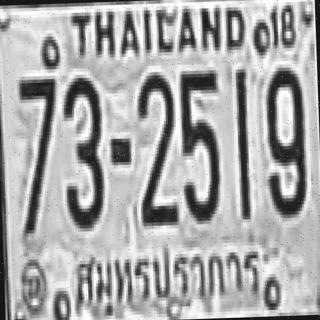N01: (233, 69, 250, 220)
N02: (134, 70, 177, 224)
N03: (60, 74, 104, 226)
N05: (178, 66, 221, 221)
N07: (17, 75, 60, 234), (17, 75, 58, 181)
N09: (263, 64, 306, 215)
P57: (72, 238, 262, 312)
